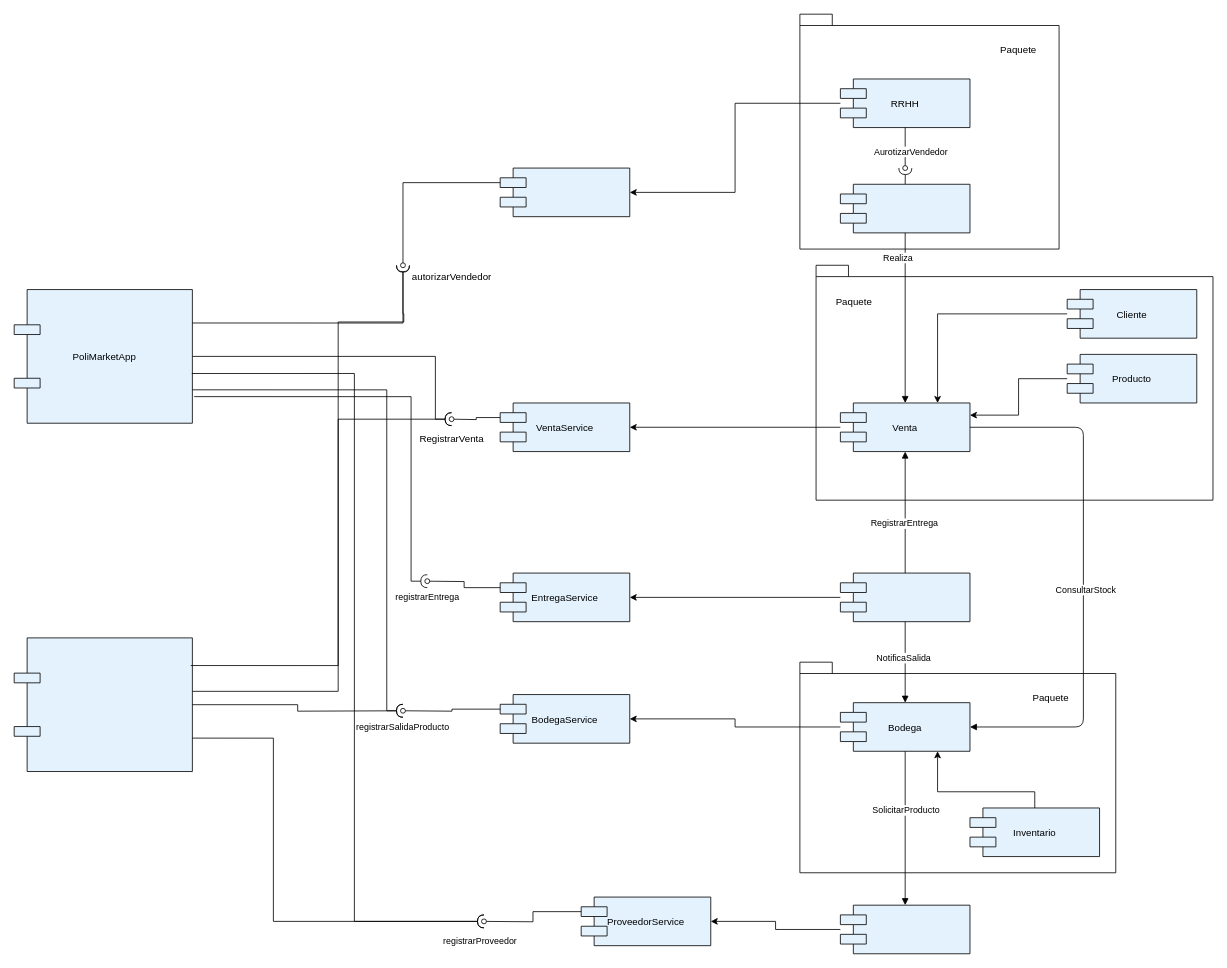
Some shapes in this 1227 by 968 pixel diagram are drawn without their labels. The box of each missing label's shape, as (x1, y1, x2, y2) in pixels:
Cliente Web - PoliMarket: (13, 637, 192, 772)
Entrega: (840, 572, 970, 622)
Proveedor: (840, 904, 970, 954)
RHService: (499, 167, 630, 217)
Vendedor: (840, 183, 970, 233)
